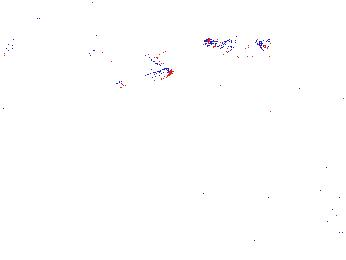X-ray fish: (23, 1, 76, 39)
glassfish: (175, 125, 260, 190)
redtail glassfish: (109, 65, 172, 98), (87, 43, 165, 67), (200, 35, 271, 59)
